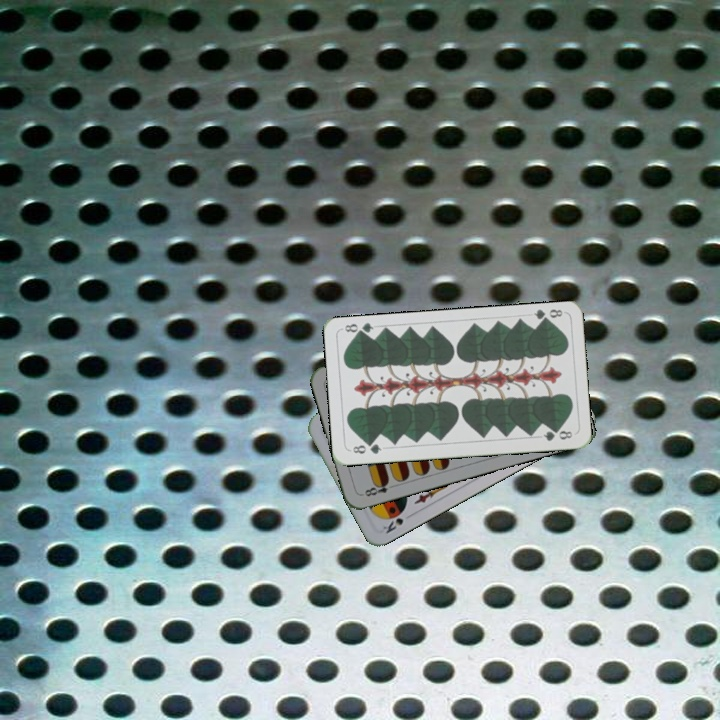E8: (358, 476, 398, 499)
G8: (530, 305, 565, 326), (349, 439, 384, 457)
SK: (379, 514, 406, 536)
